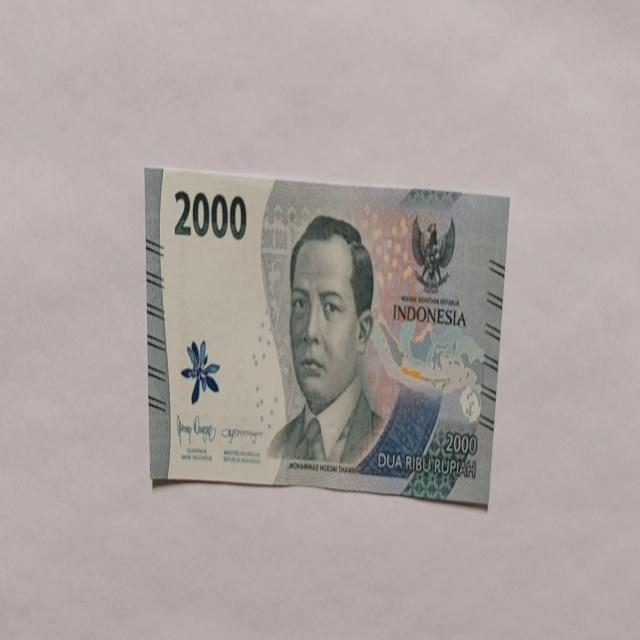dua ribu rupiah: (145, 165, 510, 505), (266, 213, 384, 468)
